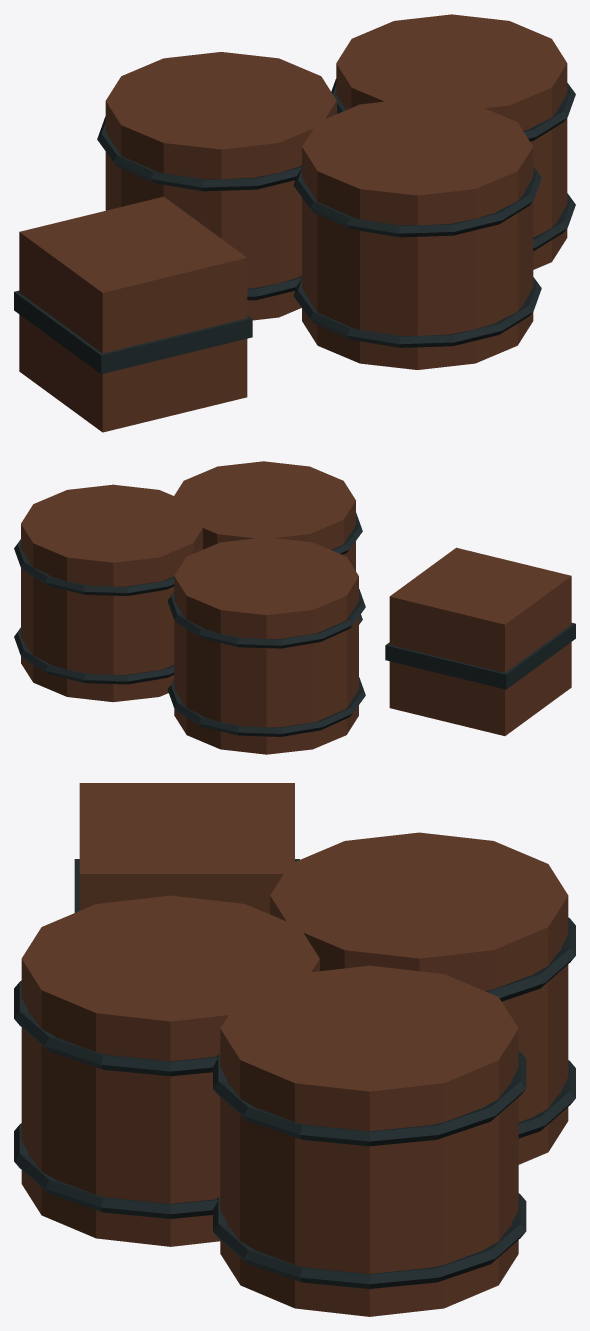
File: ParkParkDecorBarrels.obj
The picture shows the model from 3 angles, top to bottom: view 1: azimuth 30°, elevation 25°; view 2: azimuth 150°, elevation 25°; view 3: azimuth 270°, elevation 25°; orthographic projection. The views are drawn at different scales.
Parts seen in each view (by area): view 1: ParkParkDecorBarrels; view 2: ParkParkDecorBarrels; view 3: ParkParkDecorBarrels.
Part boxes in pixels (x1,y1,x2,y2): ParkParkDecorBarrels: [14, 14, 575, 432]; ParkParkDecorBarrels: [14, 461, 575, 754]; ParkParkDecorBarrels: [14, 783, 575, 1316].
Size of the model in its own units: 5.15 by 1.5 by 3.39.
